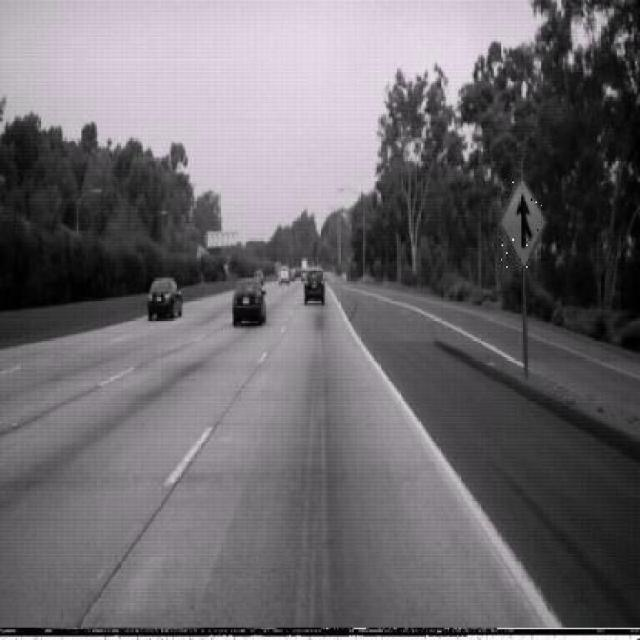merge: (500, 174, 547, 271)
